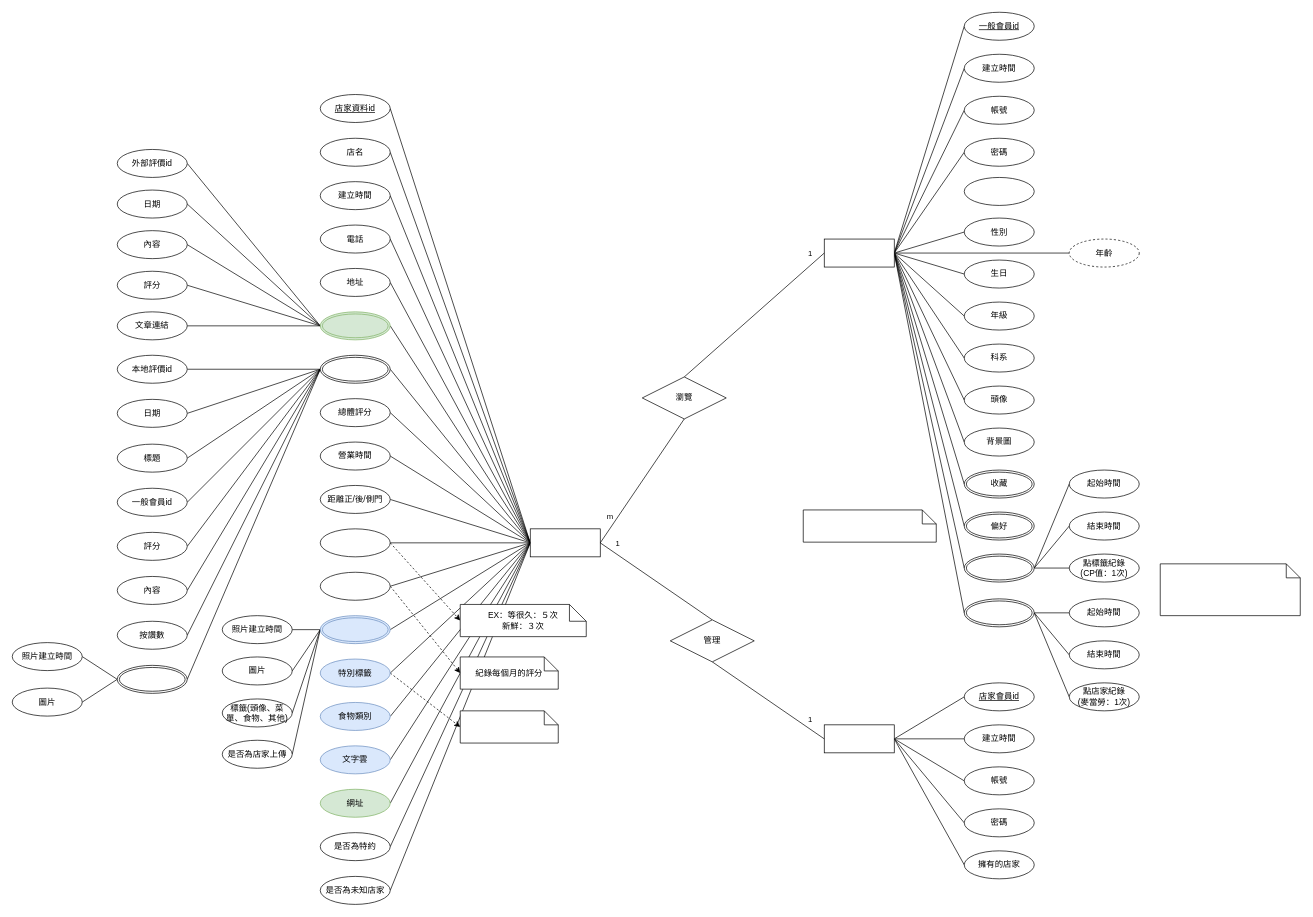
This 1313x917 diagram has some shape labels left out. Here are the shapes that lost their labels. From the top down, the centre of each, then its label:
point 999,191: 姓名
point 859,252: 一般會員
point 355,325: 外部評價
point 355,369: 本地評價
point 355,542: 關鍵字頻率
point 565,542: 店家資料
point 869,525: 偏好：存使用者的推薦內容
point 355,586: 總體評分紀錄
point 999,567: 點擊標籤紀錄
point 1230,589: 起始時間：點進畫面的時間 結束時間：離開畫面的時間 可以用來計算瀏覽時間， 特定時間以上才算有效
point 355,629: 照片
point 999,612: 點擊店家紀錄
point 152,679: 評價內照片
point 509,726: CP值、快速...等
point 859,738: 店家會員
